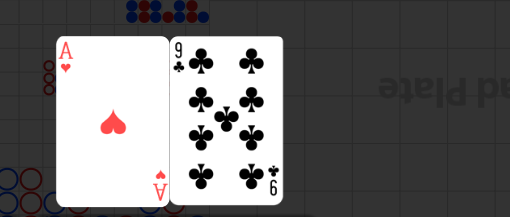9C: (266, 162, 280, 197)
AH: (58, 41, 75, 76)
